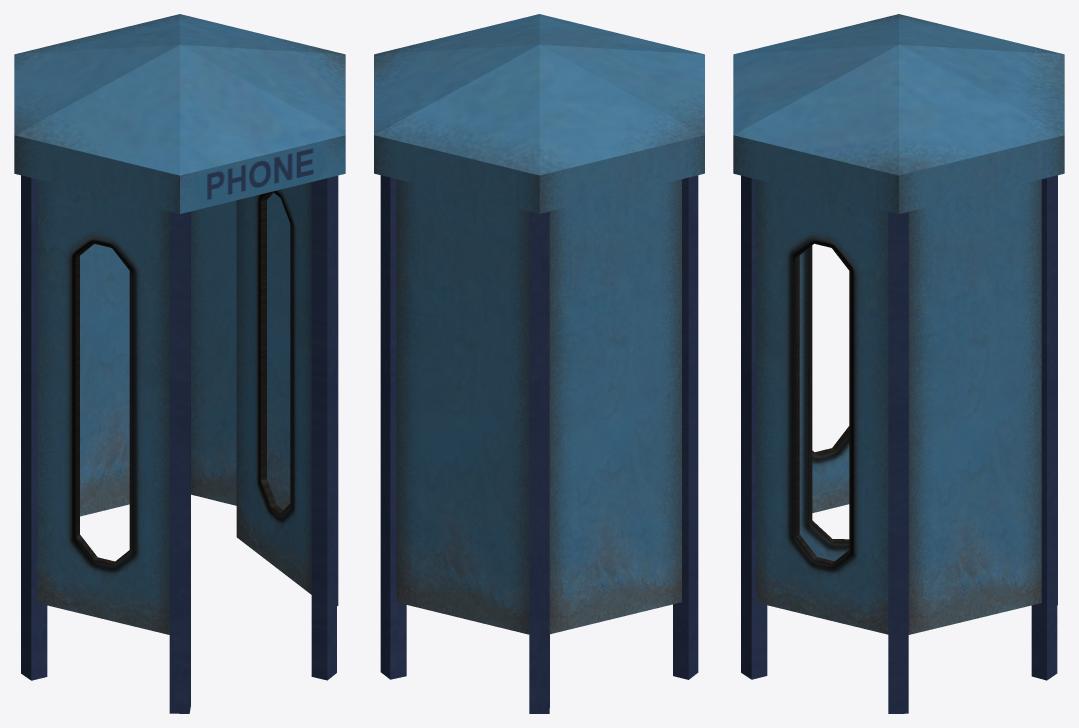
File: phone_02_modified.FBX
The picture shows the model from 3 angles, left to right: view 1: azimuth 30°, elevation 25°; view 2: azimuth 150°, elevation 25°; view 3: azimuth 270°, elevation 25°; orthographic projection.
Visible parts, largest first — view 1: phone_02; view 2: phone_02; view 3: phone_02.
Part boxes in pixels (x1=…): phone_02: x1=14, y1=14, x2=345, y2=713; phone_02: x1=374, y1=14, x2=704, y2=713; phone_02: x1=733, y1=14, x2=1064, y2=713.
Size of the model in its own units: 109 by 216 by 126.
Materials: 1 (1 with a texture image).
